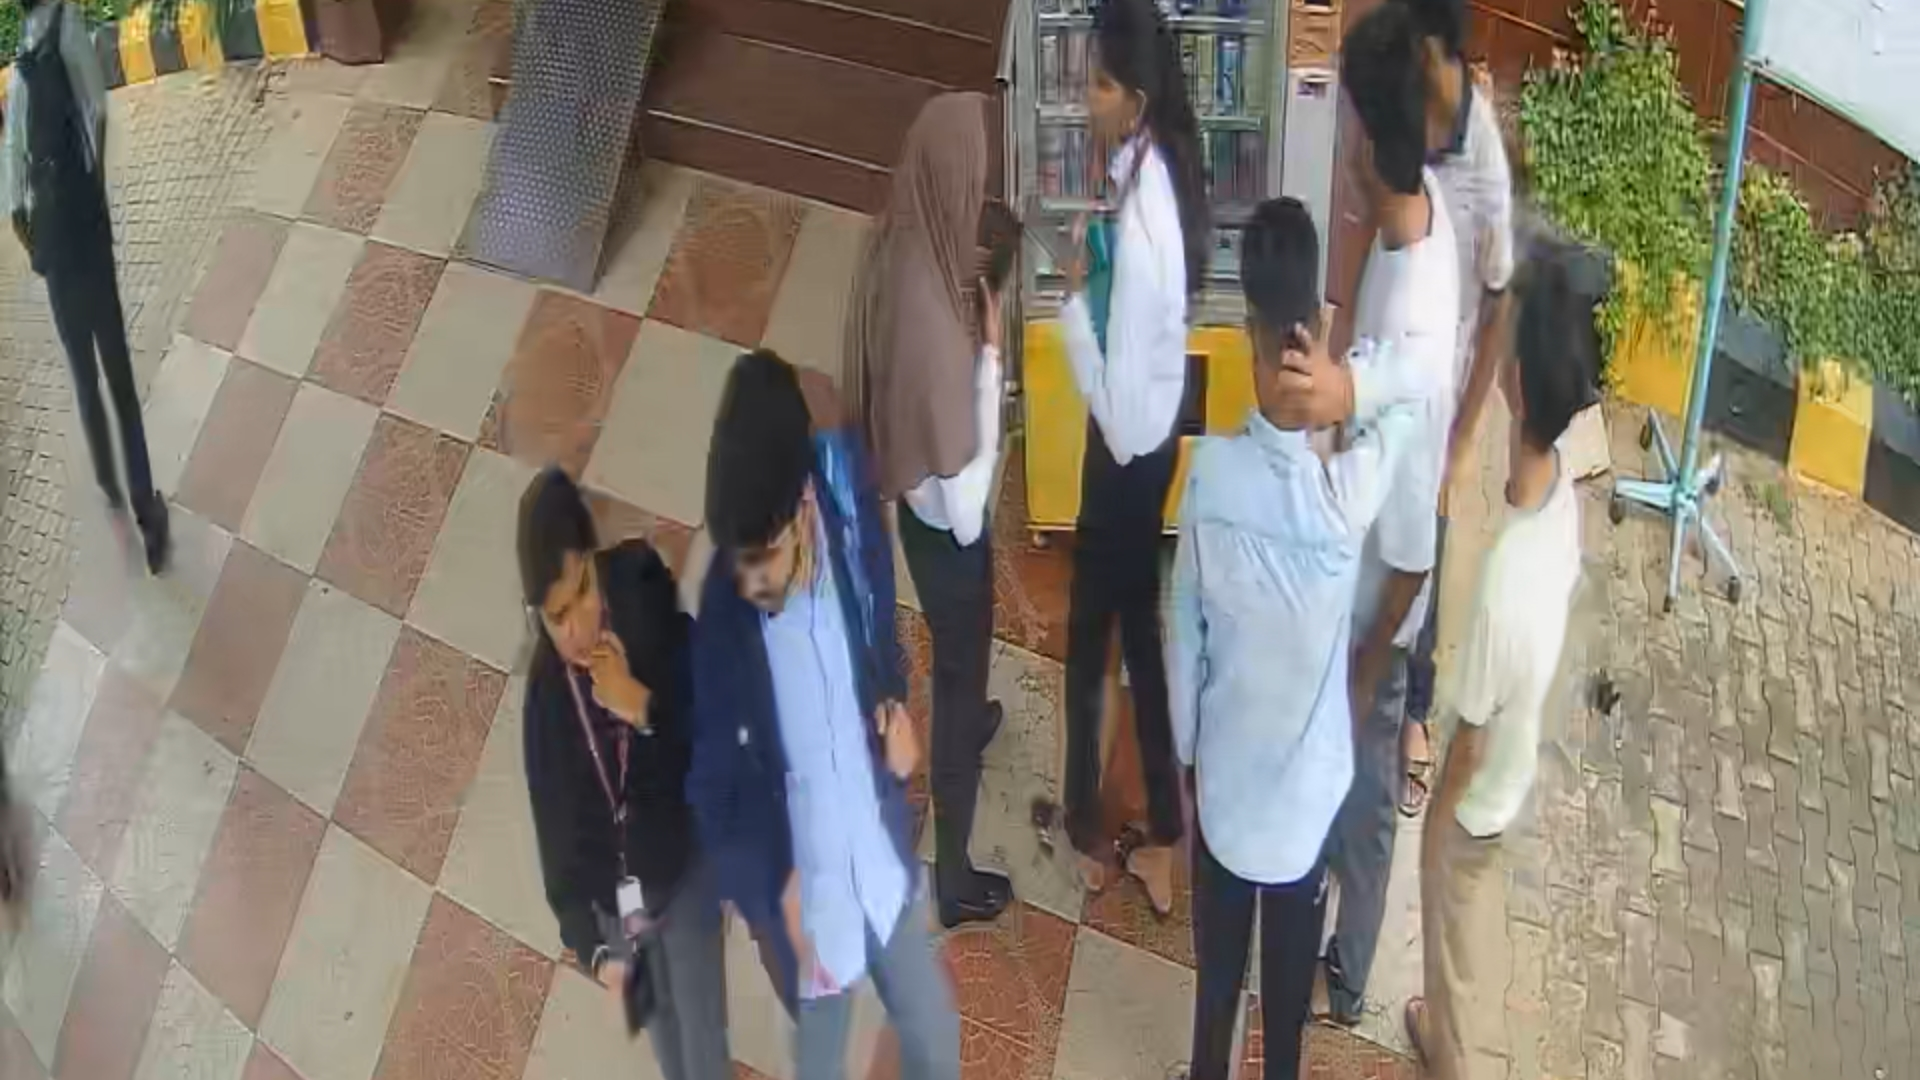intruder: (692, 357, 967, 1080)
not intruder: (498, 429, 740, 1075)
